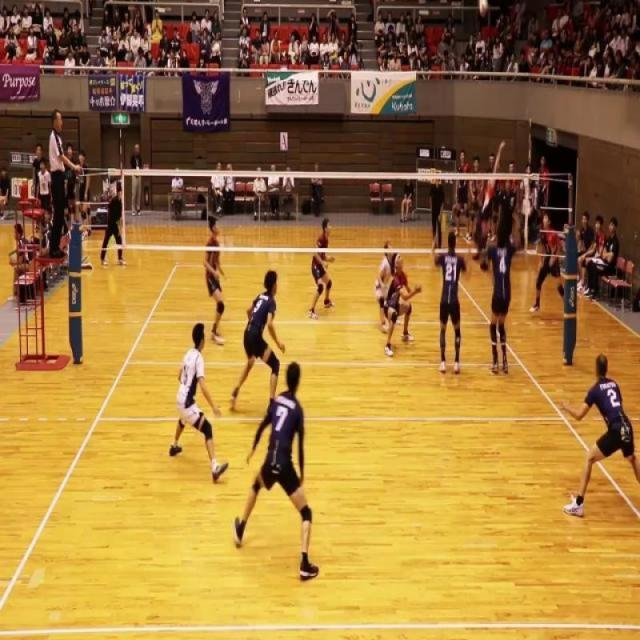volleyball: (478, 0, 489, 17)
